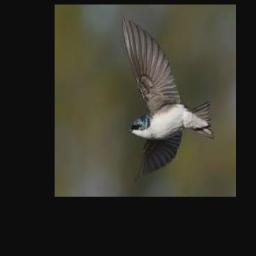Swallow: (121, 17, 213, 181)
